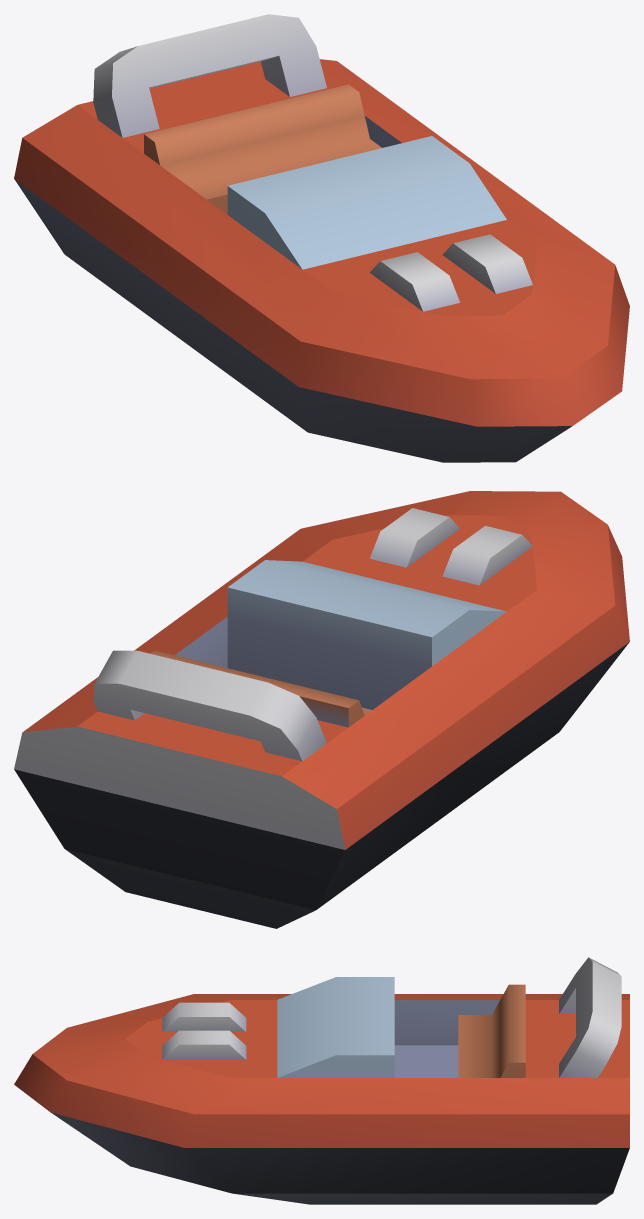
The model's file is boat-speed-h.glb.
3 renders of one model, top to bottom at view 1: azimuth 30°, elevation 25°; view 2: azimuth 150°, elevation 25°; view 3: azimuth 270°, elevation 25°, orthographic. The views are drawn at different scales.
Parts seen in each view (by area): view 1: boat-speed-h; view 2: boat-speed-h; view 3: boat-speed-h.
Part boxes in pixels (x1=…): boat-speed-h: x1=14, y1=14, x2=629, y2=462; boat-speed-h: x1=14, y1=491, x2=629, y2=928; boat-speed-h: x1=14, y1=957, x2=629, y2=1204.
Size of the model in its own units: 1.78 by 1.25 by 3.67.
